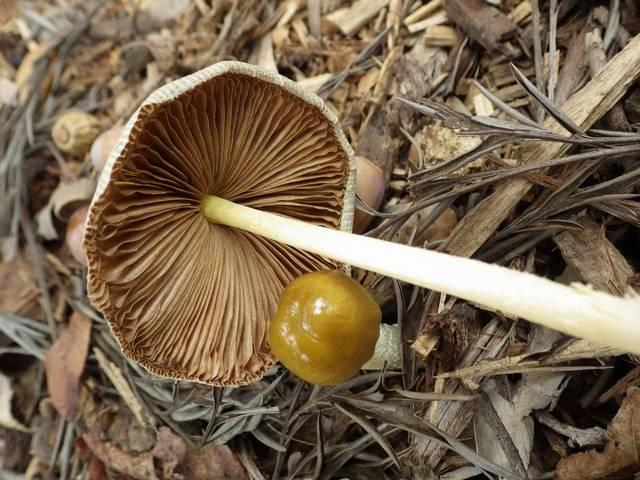edible_mushroom: (81, 59, 358, 387)
